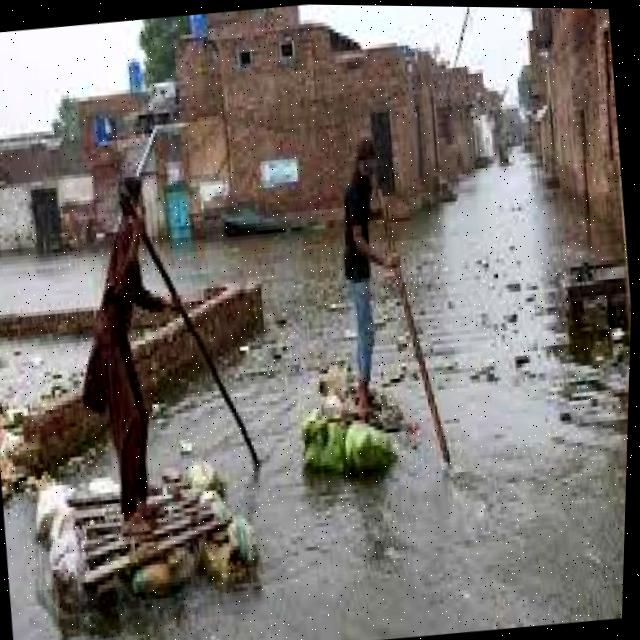civilian: (55, 153, 218, 541), (296, 127, 415, 428)
